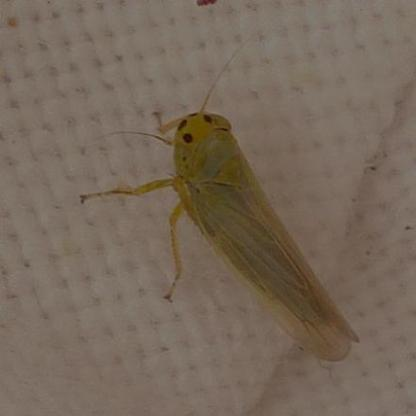green-leafhopper: (144, 108, 358, 366)
